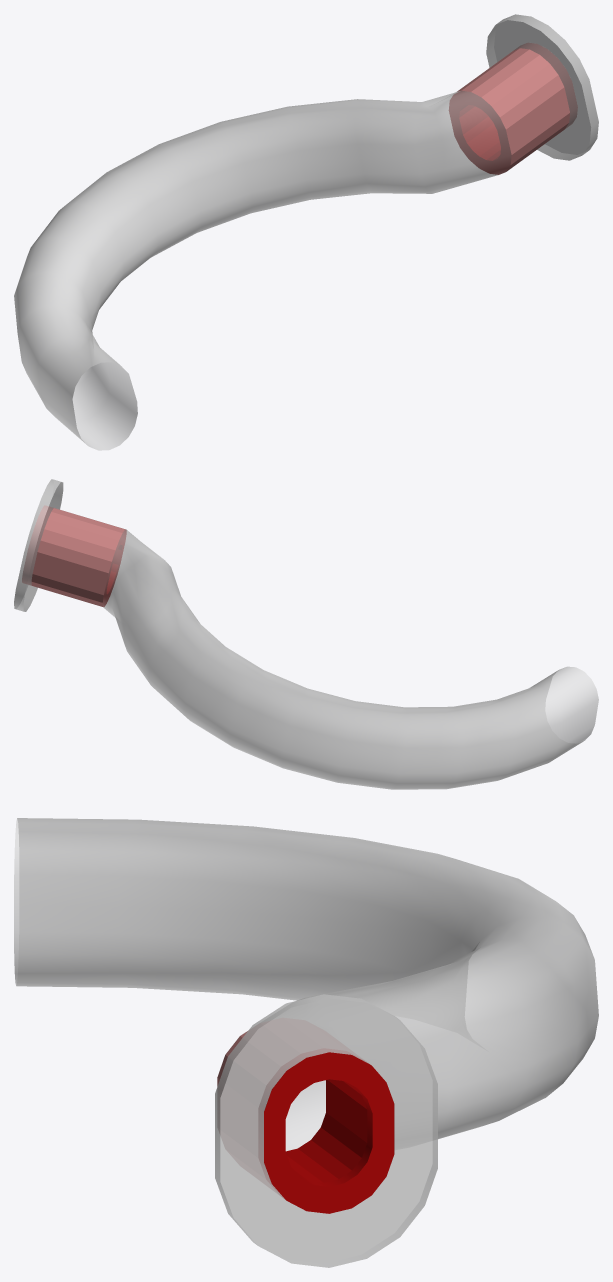
File: Anethesia Cart - Mayo Tube L.FBX
3 views of the same model, one above another, from view 1: azimuth 30°, elevation 25°; view 2: azimuth 150°, elevation 25°; view 3: azimuth 270°, elevation 25° (orthographic). The views are drawn at different scales.
Parts seen in each view (by area): view 1: MayoTube010; view 2: MayoTube010; view 3: MayoTube010.
Part boxes in pixels (x1,y1,x2,y2): MayoTube010: [14, 14, 598, 450]; MayoTube010: [14, 479, 598, 789]; MayoTube010: [14, 818, 598, 1267].
Size of the model in its own units: 11.71 by 4.59 by 5.94.
